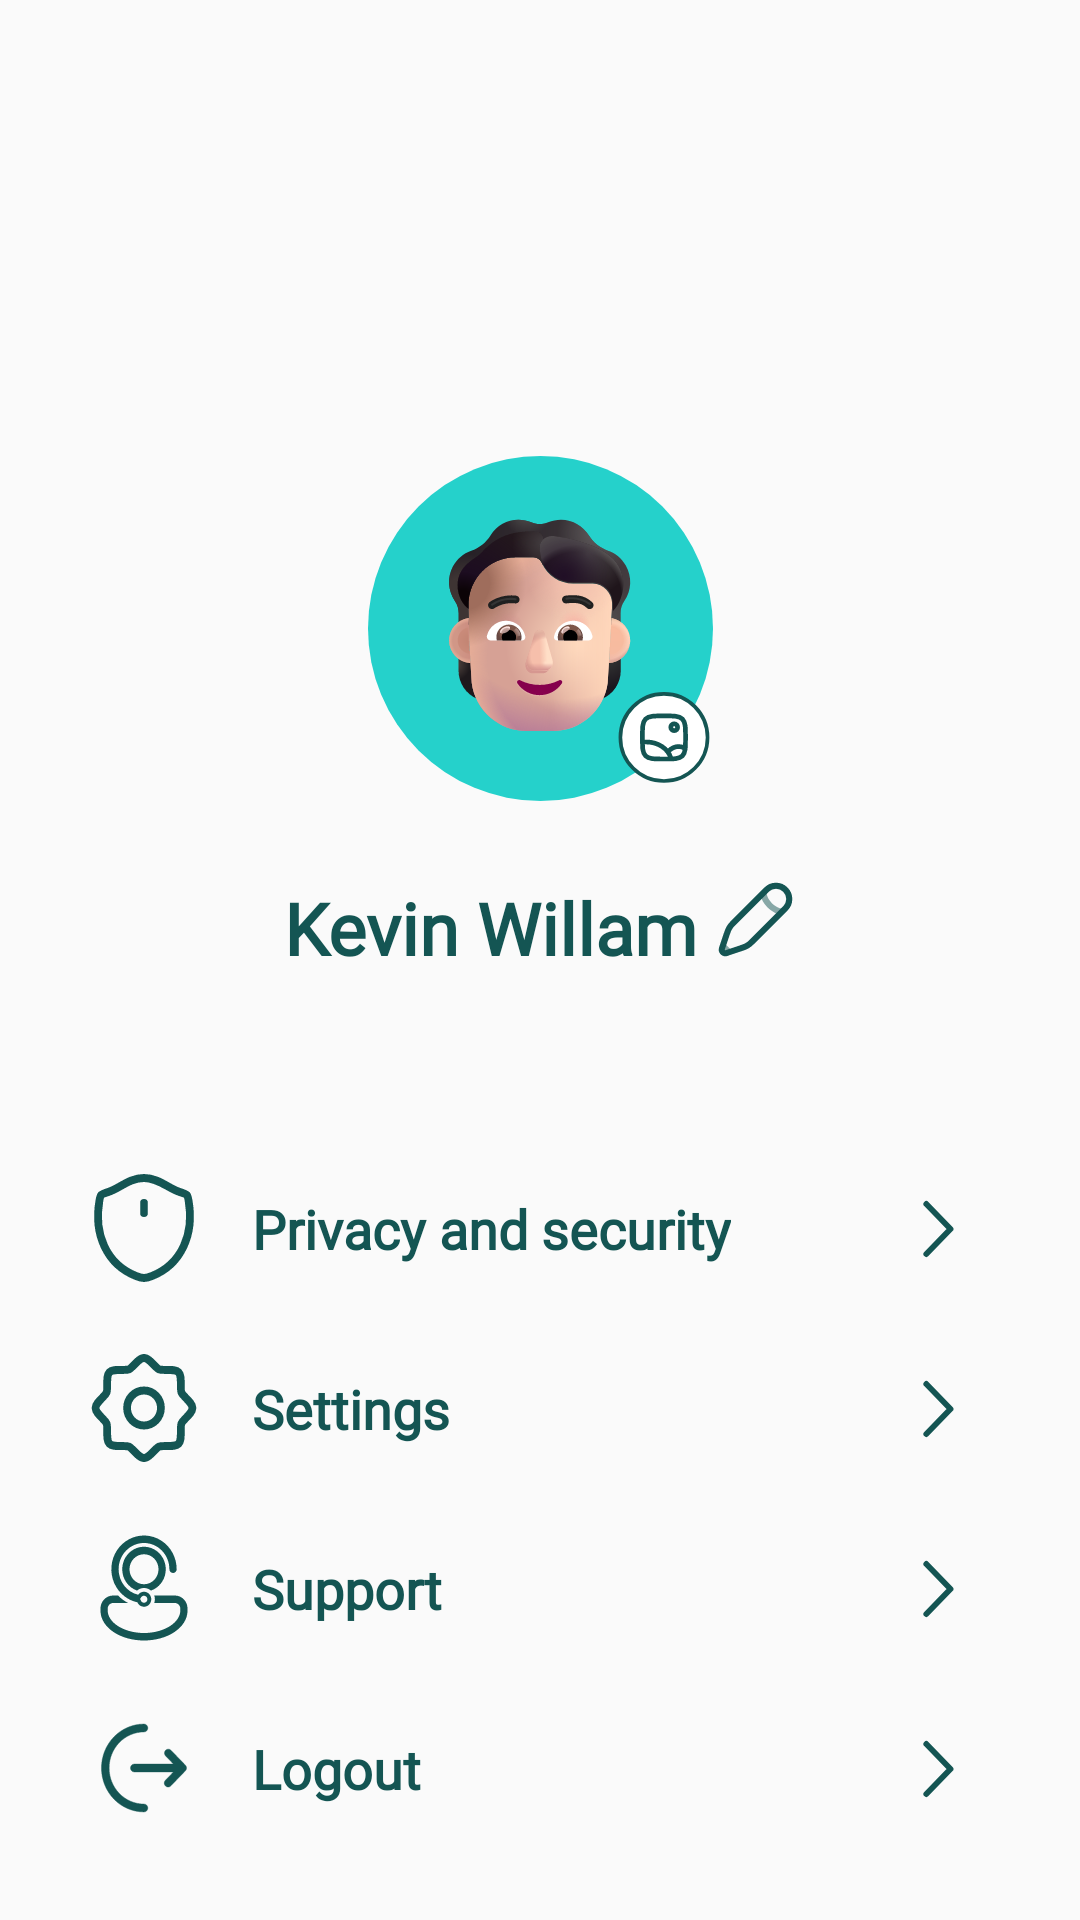

Named icons in this screenshot (1080px x 1920px) and their bounding boxes, (left=x1, top=y1, right=x2, bottom=y2):
profile pict: (left=368, top=456, right=713, bottom=801)
Secure Icon: (left=94, top=1174, right=194, bottom=1282)
